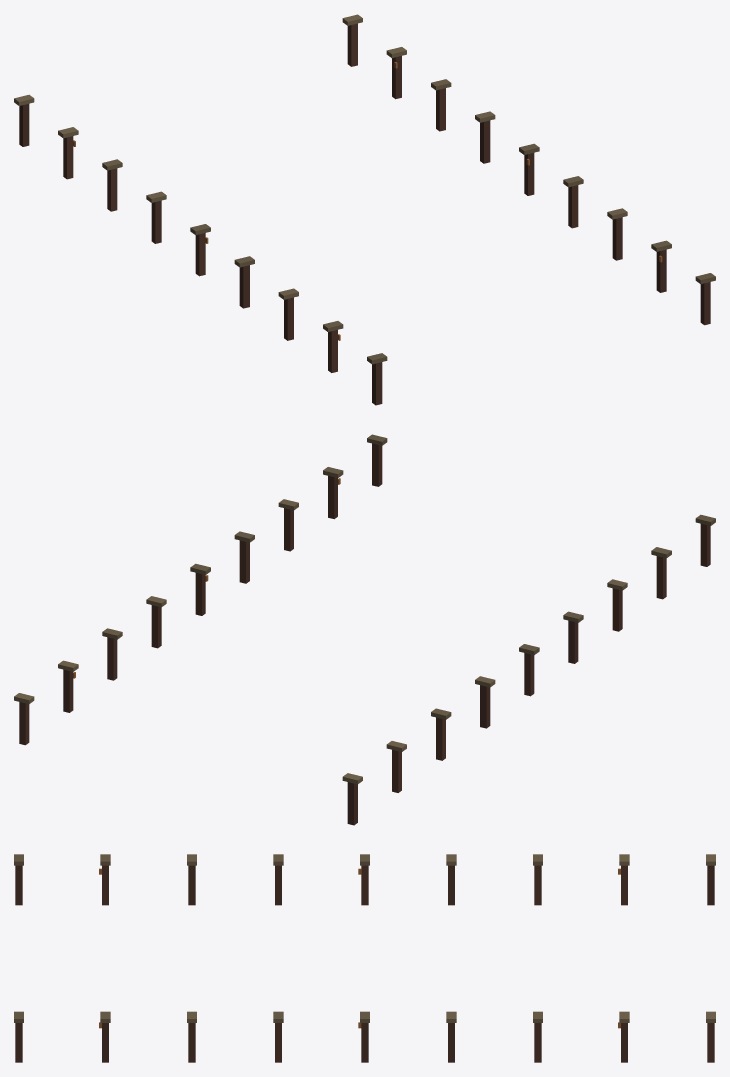
The model's file is drift_wash_detail1.glb.
The picture shows the model from 3 angles, top to bottom: view 1: azimuth 30°, elevation 25°; view 2: azimuth 150°, elevation 25°; view 3: azimuth 270°, elevation 25°; orthographic projection. The views are drawn at different scales.
Visible parts, largest first — view 1: drift_wash_detail1; view 2: drift_wash_detail1; view 3: drift_wash_detail1.
Part boxes in pixels (left/top/right/bottom): drift_wash_detail1: left=14, top=14, right=715, bottom=405; drift_wash_detail1: left=14, top=434, right=715, bottom=825; drift_wash_detail1: left=14, top=854, right=715, bottom=1062.
Size of the model in its own units: 27 by 3.5 by 48.7.
